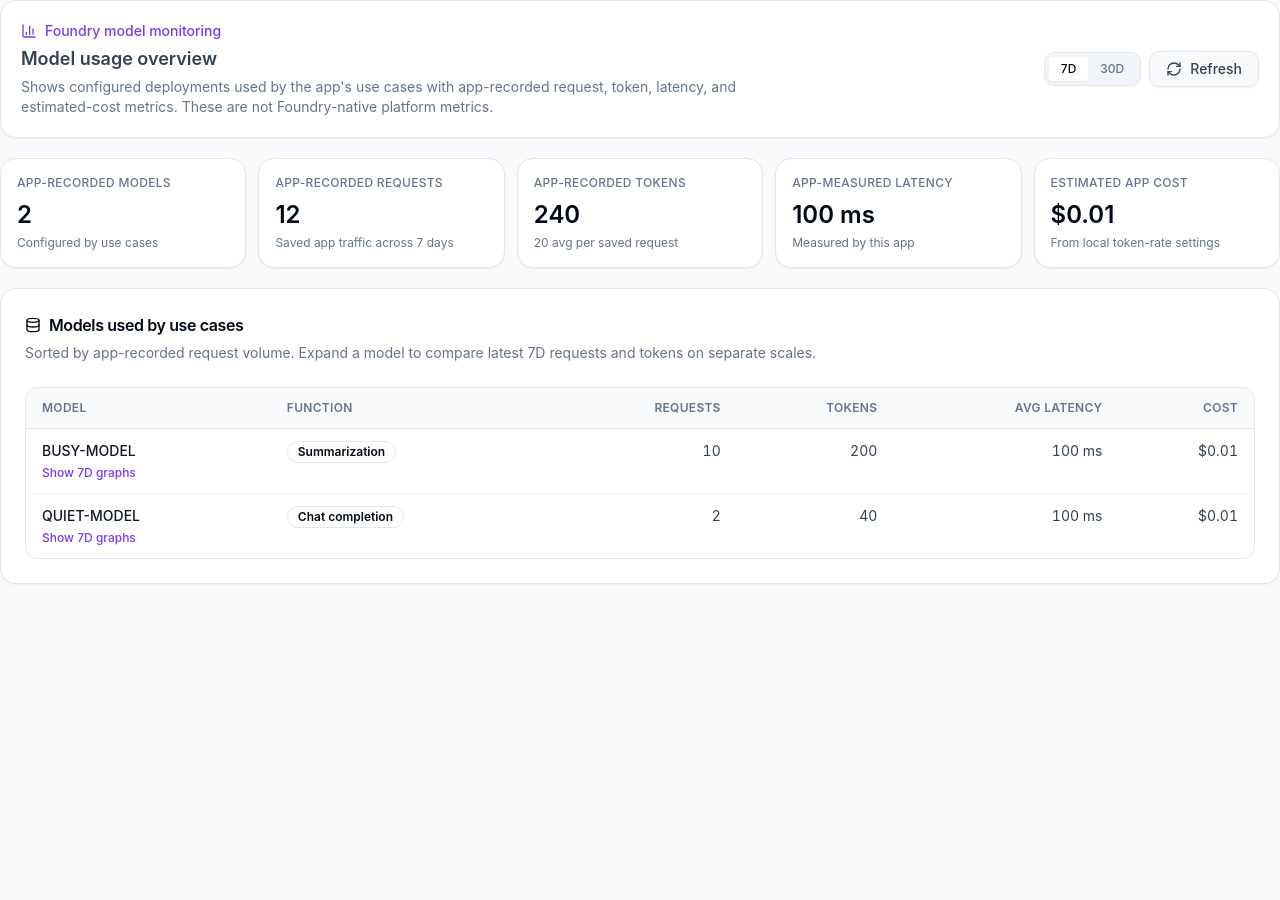
Test: ModelMonitoringPage › uses app-recorded labels, removes the use-case column, sorts by requests, and expands separate 7D graphs
Expected: the text "App-recorded requests" is shown, [275,175,443,190]
Expected: the text "App-recorded tokens" is shown, [534,175,686,190]
Click the button "Show 7D graphs" below "BUSY-MODEL".
click(89, 473)  # box [42,465,136,481]
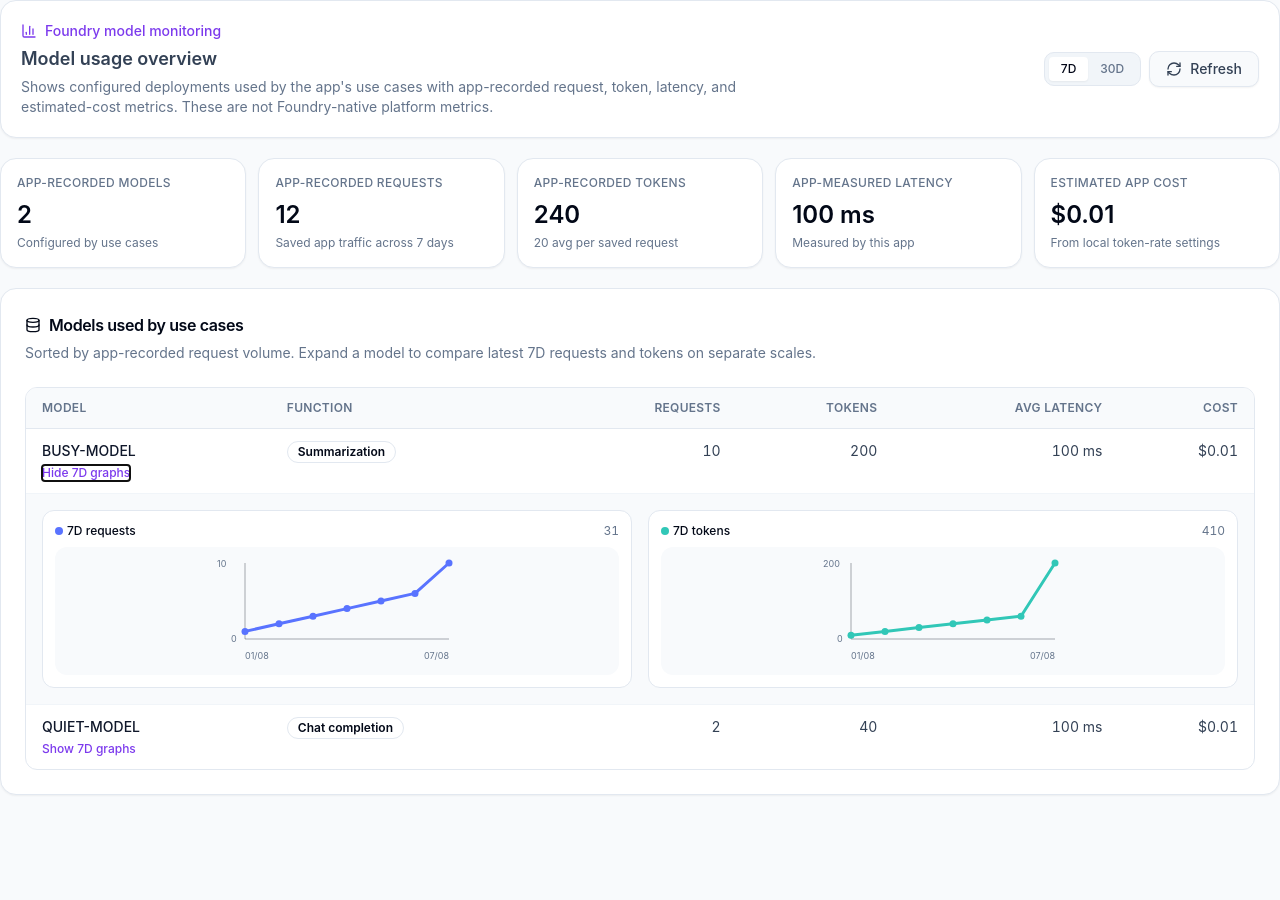
Now the text "7D requests" is shown, box [55,523,136,539]
Now the text "31" is shown, box [603,523,619,539]
Now the text "7D tokens" is shown, box [661,523,730,539]
